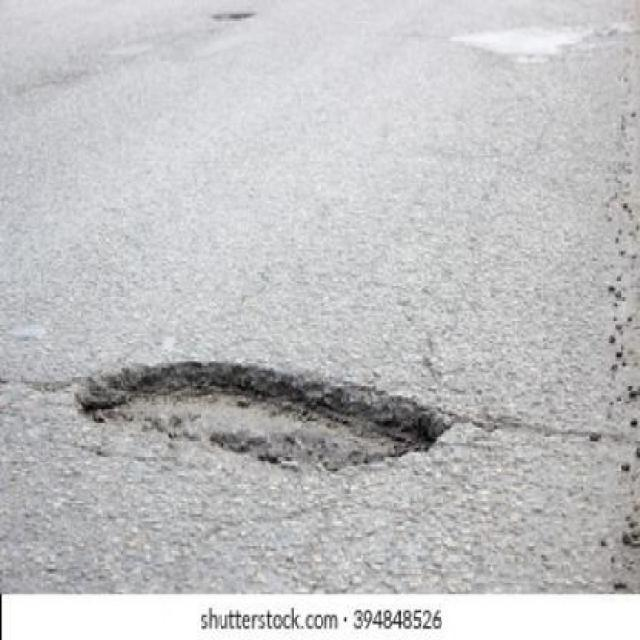Buraco: (66, 356, 475, 479)
